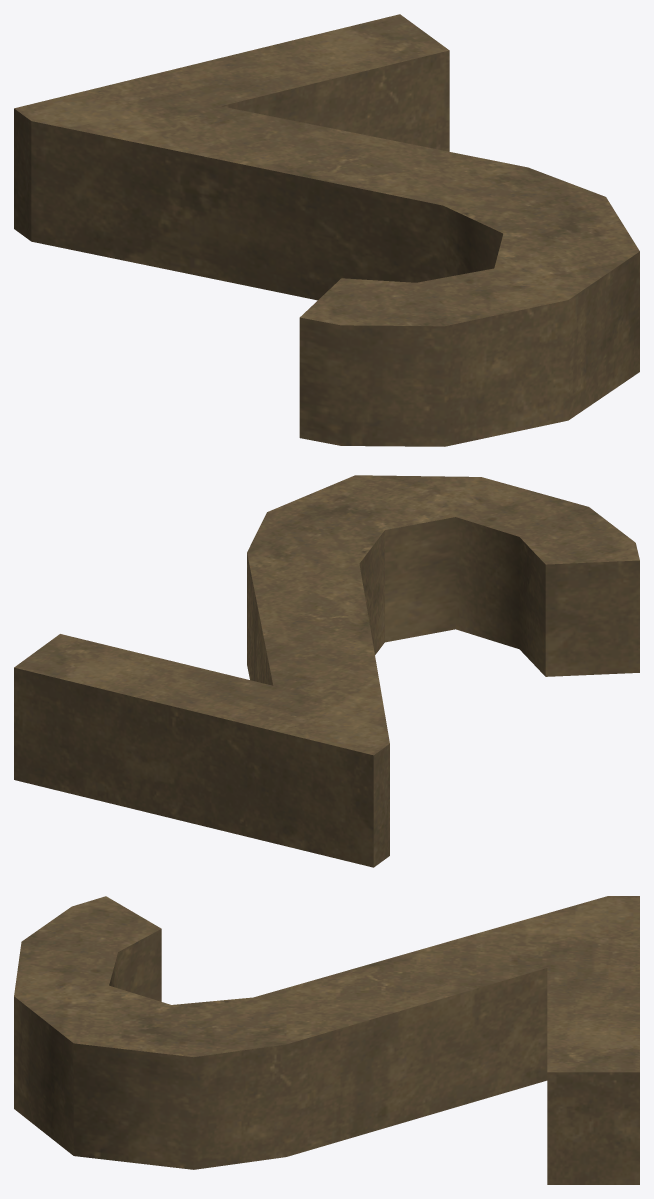
Rendered from p6_3d_txt_levenim_frnt_gold_2_LOD1.obj.
The picture shows the model from 3 angles, top to bottom: view 1: azimuth 30°, elevation 25°; view 2: azimuth 150°, elevation 25°; view 3: azimuth 270°, elevation 25°; orthographic projection. The views are drawn at different scales.
Parts seen in each view (by area): view 1: dub_gold_shiny_01; view 2: dub_gold_shiny_01; view 3: dub_gold_shiny_01.
Boxes of the visible parts, x1,y1,x2,y2 form: dub_gold_shiny_01: [14, 14, 639, 446]; dub_gold_shiny_01: [14, 475, 639, 867]; dub_gold_shiny_01: [14, 896, 639, 1184].
Size of the model in its own units: 64.8 by 19.34 by 97.38.
